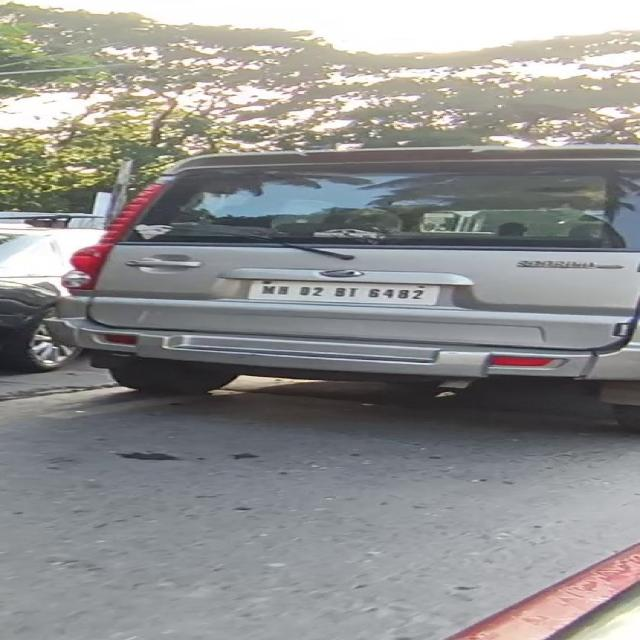Plate: (247, 281, 442, 306)
